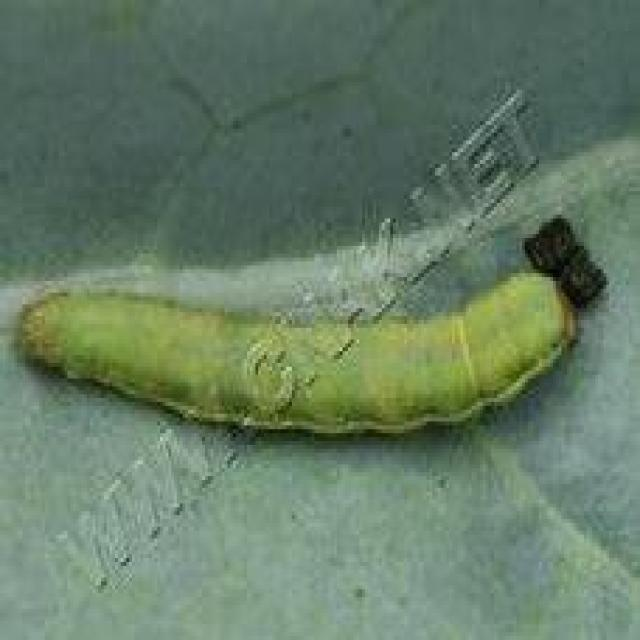BeetArmyWorm-Larva-: (17, 263, 585, 444)
